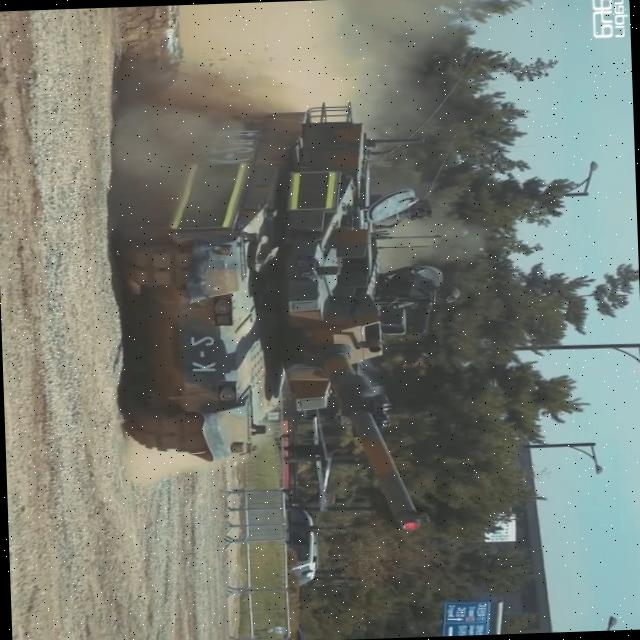korea tank: (103, 96, 470, 542)
